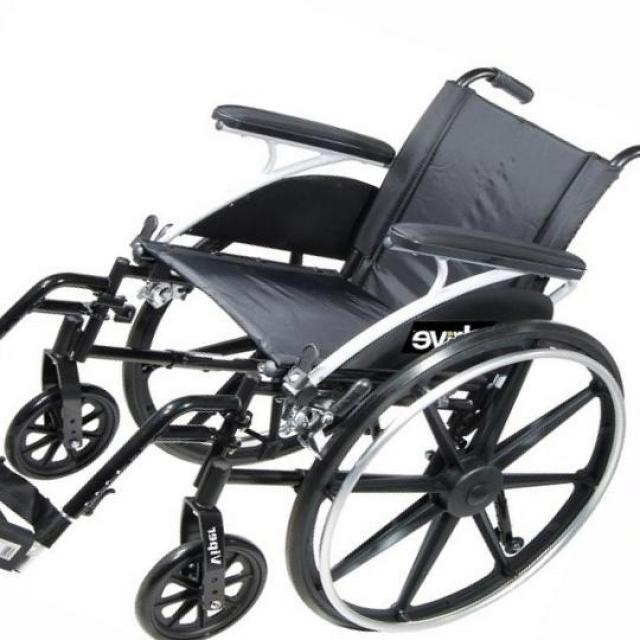wheelchair: (0, 66, 640, 639)
